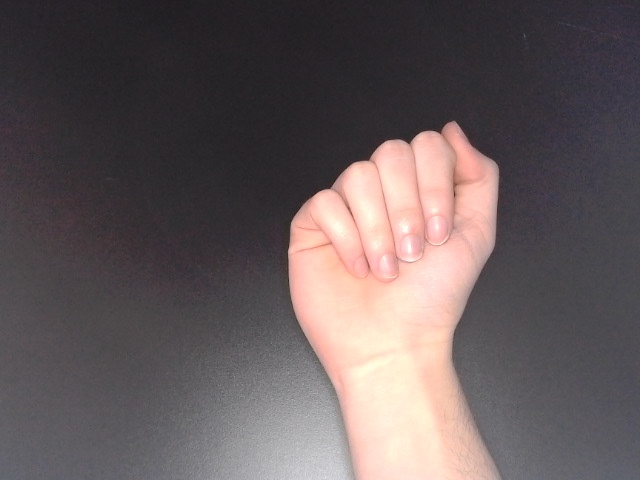a: (282, 116, 504, 398)
